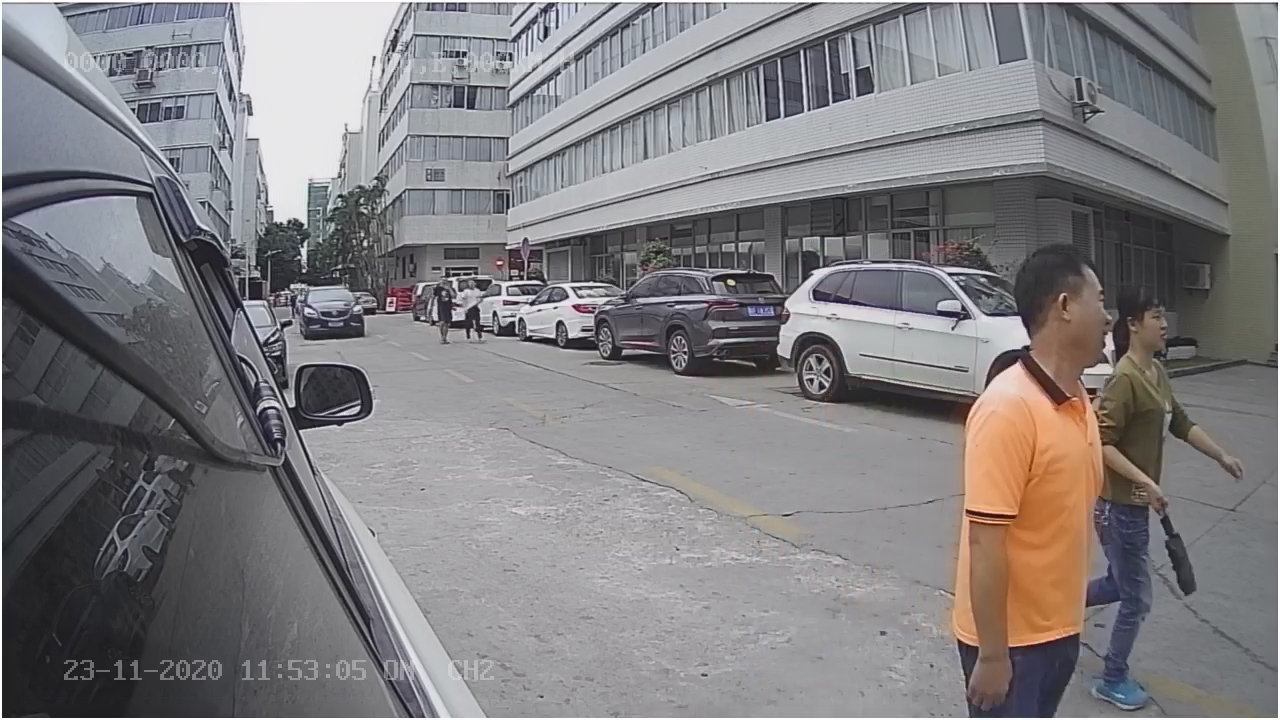person: (945, 239, 1113, 709)
